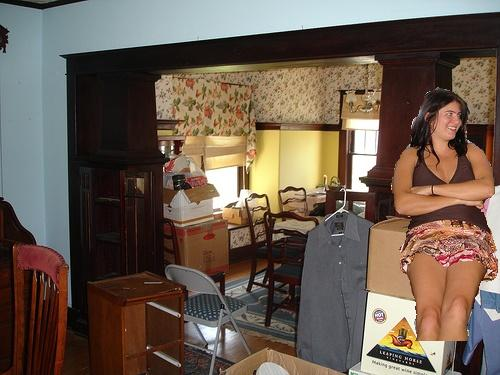tampered: (392, 88, 498, 341)
